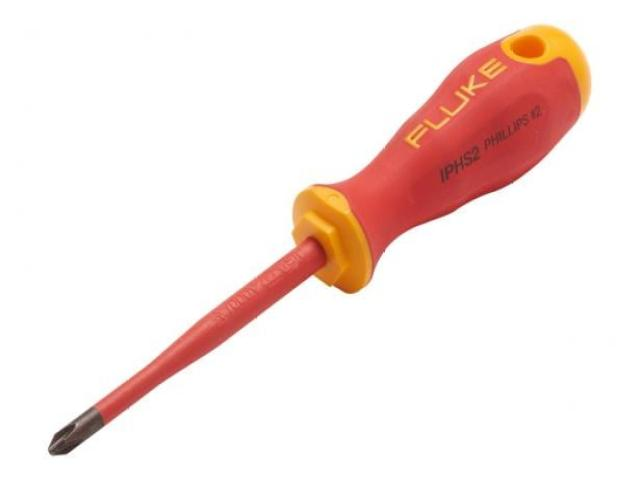Screwdriver: (49, 25, 590, 454)
